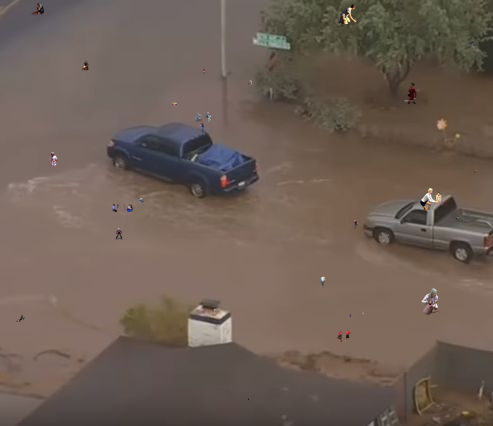Human: (421, 288, 441, 315), (420, 188, 442, 210), (338, 4, 357, 24), (404, 82, 417, 104), (31, 3, 46, 16), (336, 330, 351, 342), (194, 112, 212, 122), (112, 204, 133, 212), (48, 152, 58, 166), (320, 275, 329, 286), (349, 311, 365, 317), (115, 228, 123, 240), (81, 60, 89, 71), (16, 315, 27, 322), (353, 220, 358, 230), (199, 123, 204, 133), (139, 198, 144, 204), (172, 102, 179, 106), (248, 80, 252, 85), (247, 397, 250, 401), (474, 170, 477, 174), (473, 42, 475, 47), (203, 69, 205, 74), (214, 309, 216, 314), (456, 217, 459, 220), (388, 234, 391, 237)
